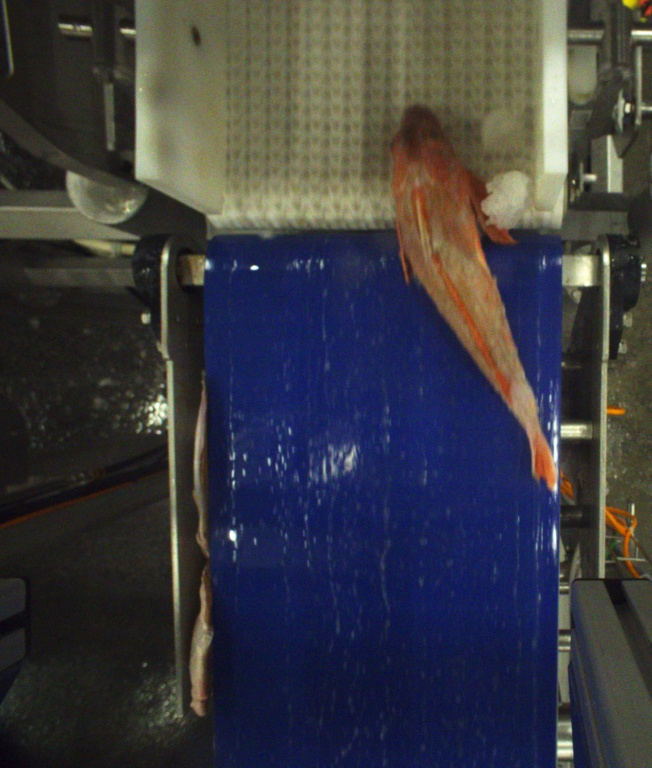GUU: (391, 97, 557, 492)
